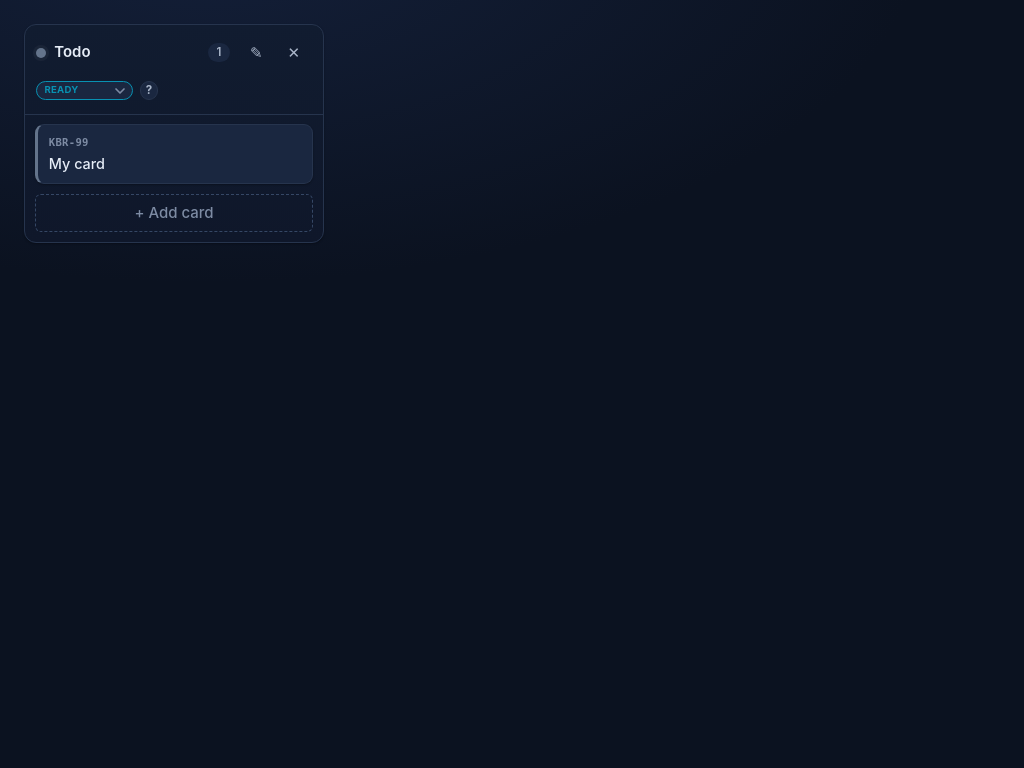
Test: KBR-38: view mode is read-only for attachments › shows attachments without a remove (✕) control in view mode
Click the text "My card": click(77, 164) [49,155,105,172]
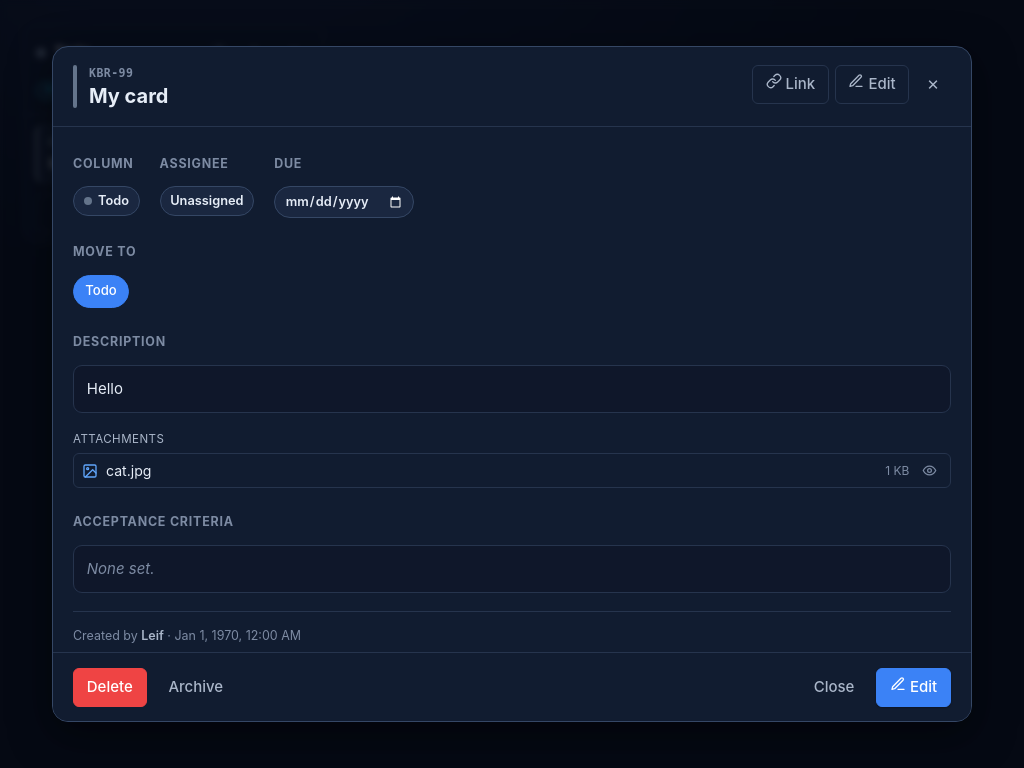
Expected: the link "cat.jpg" is shown, [106,460,151,481]
